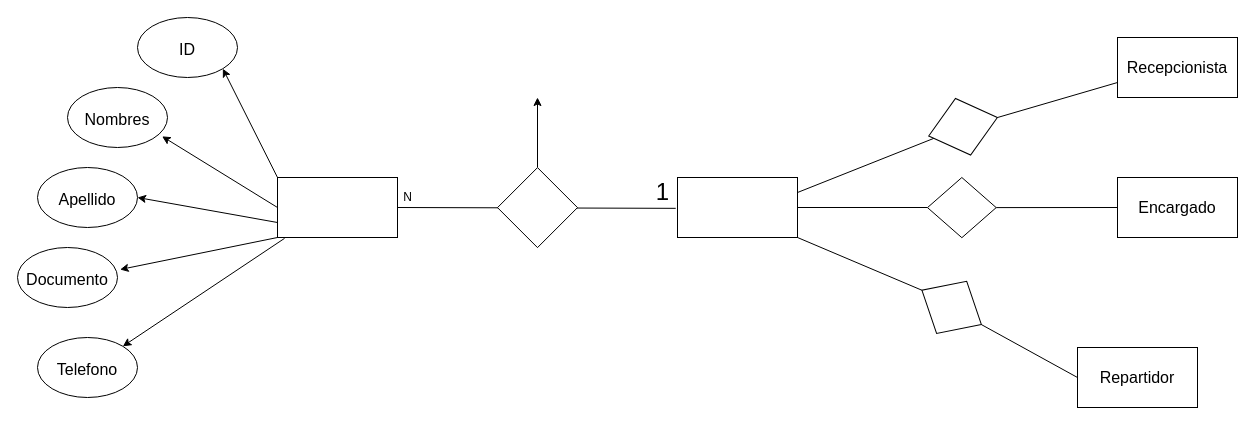
Some shapes in this 1255 by 425 pixel diagram are drawn without their labels. Each missing label, with the centre of its shape:
"clientes" belongs at point 337,207.
"DEJA" belongs at point 537,207.
"Empleados" belongs at point 737,207.
